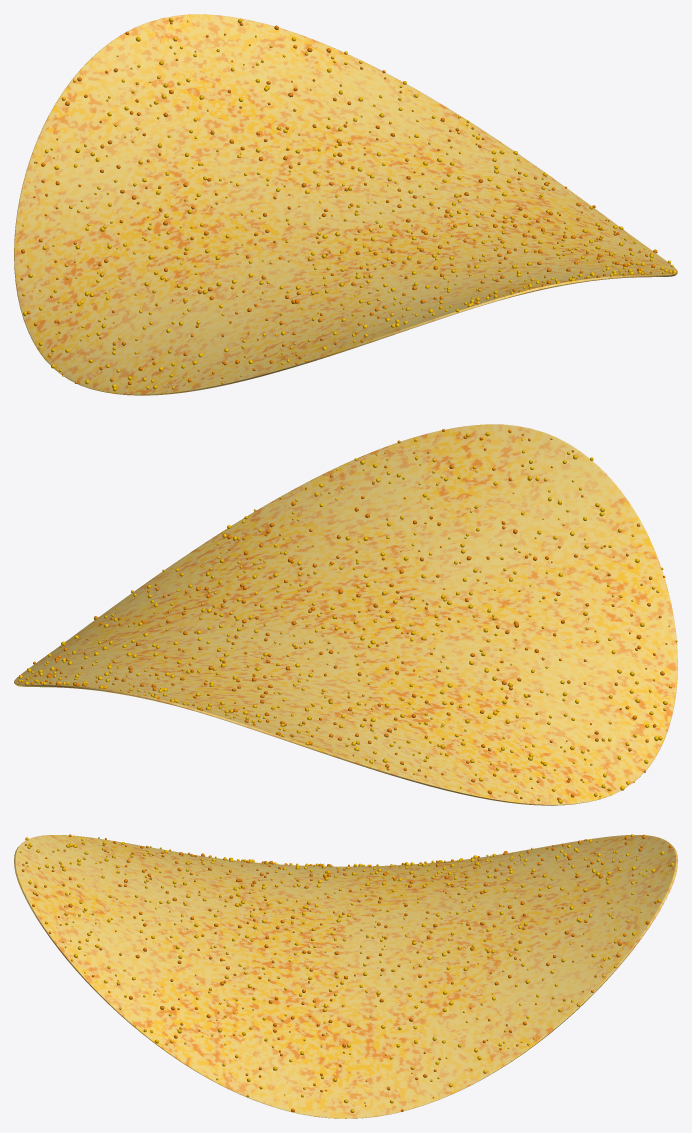
The model's file is Chip_Cheese_v2.glb.
3 views of the same model, one above another, from view 1: azimuth 30°, elevation 25°; view 2: azimuth 150°, elevation 25°; view 3: azimuth 270°, elevation 25° (orthographic). The views are drawn at different scales.
Visible parts, largest first — view 1: Chip_Cheese, Powder_Cheese_Baked; view 2: Chip_Cheese, Powder_Cheese_Baked; view 3: Chip_Cheese, Powder_Cheese_Baked.
Boxes of the visible parts, bbox=[...] form: Chip_Cheese: bbox=[14, 14, 677, 395]; Powder_Cheese_Baked: bbox=[20, 18, 676, 391]; Chip_Cheese: bbox=[14, 424, 677, 805]; Powder_Cheese_Baked: bbox=[18, 429, 677, 803]; Chip_Cheese: bbox=[14, 835, 677, 1118]; Powder_Cheese_Baked: bbox=[19, 834, 674, 1112].
Bounding box in the file's own units: 0.055 × 0.014 × 0.062.
2 materials, 2 textured.
